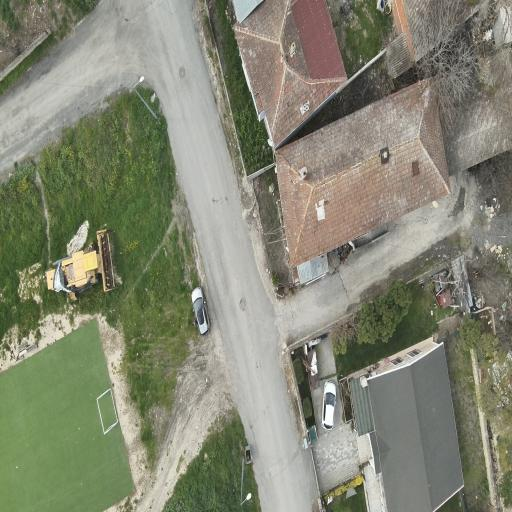car: (192, 288, 209, 335), (322, 381, 336, 429)
harvester: (47, 230, 115, 300)
